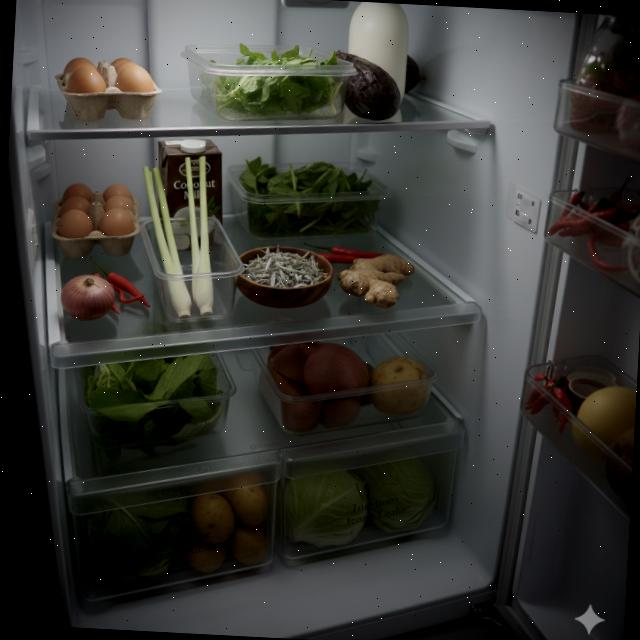anchovies: (241, 244, 330, 290)
cabbage: (281, 465, 369, 550), (364, 456, 440, 538)
chili: (88, 256, 154, 316), (304, 244, 386, 266)
egg: (52, 52, 166, 124), (51, 180, 141, 262)
ginger: (336, 252, 416, 309)
leafy_greens: (78, 348, 226, 453), (239, 154, 383, 243), (197, 41, 345, 123), (80, 486, 186, 590)
lemongrass: (134, 153, 222, 320)
onion: (60, 274, 116, 322)
potato: (186, 469, 271, 576), (368, 354, 430, 416)
